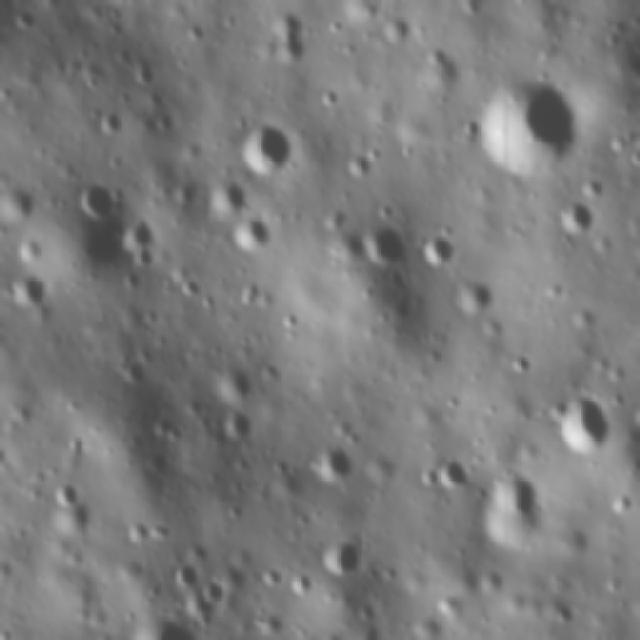crater: (476, 68, 584, 190), (483, 468, 551, 550), (548, 392, 614, 462), (233, 112, 295, 177), (362, 216, 410, 272), (442, 269, 495, 317), (127, 607, 204, 640), (74, 176, 123, 227), (413, 222, 458, 273), (308, 440, 352, 488), (3, 266, 48, 312), (548, 193, 590, 241), (205, 173, 249, 218), (273, 24, 318, 68), (321, 537, 365, 581), (0, 180, 42, 225), (232, 214, 279, 254), (209, 361, 254, 402), (414, 42, 454, 88), (113, 213, 162, 250), (437, 453, 475, 498), (44, 472, 84, 512), (126, 55, 165, 94), (220, 406, 258, 446), (91, 106, 129, 145), (340, 148, 377, 185), (380, 13, 417, 49), (168, 558, 205, 593), (10, 232, 44, 268), (196, 577, 232, 611), (284, 568, 316, 602), (129, 244, 165, 273), (9, 6, 45, 34), (315, 203, 350, 229), (578, 169, 607, 200), (547, 601, 578, 630), (411, 465, 444, 492), (176, 275, 207, 302), (507, 349, 533, 377), (309, 623, 349, 640), (632, 393, 640, 433)
